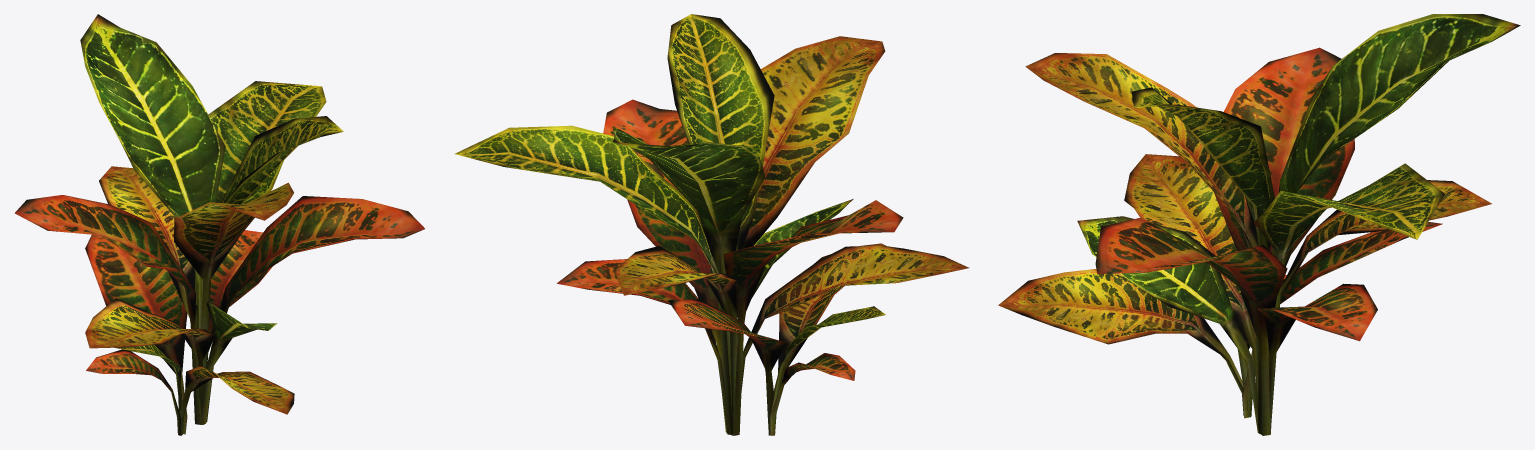
Rendered from Grass9.fbx.
3 renders of one model, left to right at view 1: azimuth 30°, elevation 25°; view 2: azimuth 150°, elevation 25°; view 3: azimuth 270°, elevation 25°, orthographic. The views are drawn at different scales.
Parts seen in each view (by area): view 1: LV_Gnollando_Foliage_TropicalBush01_PM_NWCDOR; view 2: LV_Gnollando_Foliage_TropicalBush01_PM_NWCDOR; view 3: LV_Gnollando_Foliage_TropicalBush01_PM_NWCDOR.
Part boxes in pixels (<box>): LV_Gnollando_Foliage_TropicalBush01_PM_NWCDOR: <box>15,14,424,435</box>; LV_Gnollando_Foliage_TropicalBush01_PM_NWCDOR: <box>455,14,968,435</box>; LV_Gnollando_Foliage_TropicalBush01_PM_NWCDOR: <box>998,14,1520,435</box>.
Size of the model in its own units: 0.3503 by 0.3201 by 0.3716.
1 material, 1 textured.
